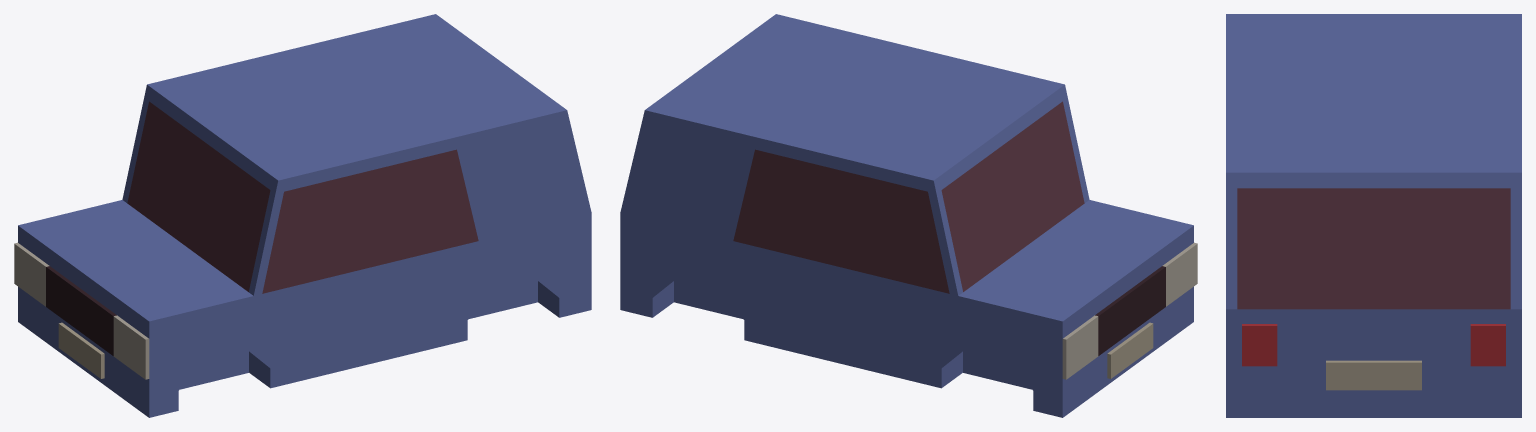
The model's file is Suv_Blue.fbx.
3 renders of one model, left to right at view 1: azimuth 30°, elevation 25°; view 2: azimuth 150°, elevation 25°; view 3: azimuth 270°, elevation 25°, orthographic. The views are drawn at different scales.
Parts seen in each view (by area): view 1: Suv_Blue, Suv_Lights; view 2: Suv_Blue, Suv_Lights; view 3: Suv_Blue, Suv_Lights.
Part boxes in pixels (box(x1,y1,x2,y2)): Suv_Blue: box(18, 14, 591, 417); Suv_Lights: box(14, 242, 149, 379); Suv_Blue: box(620, 14, 1193, 417); Suv_Lights: box(1062, 242, 1197, 379); Suv_Blue: box(1226, 14, 1521, 417); Suv_Lights: box(1242, 324, 1505, 366).
Bounding box in the file's own units: 3.66 × 1.6 × 1.85.
